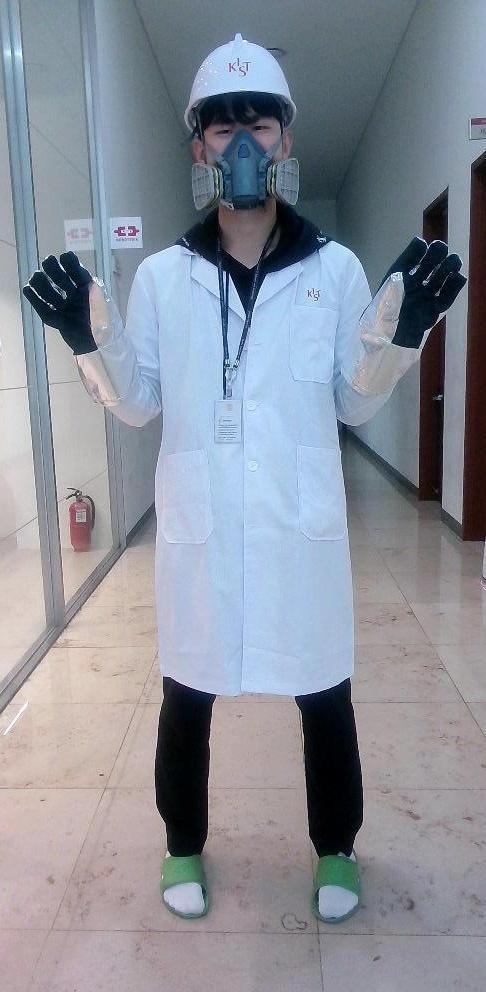lab_coat: (150, 244, 364, 696)
